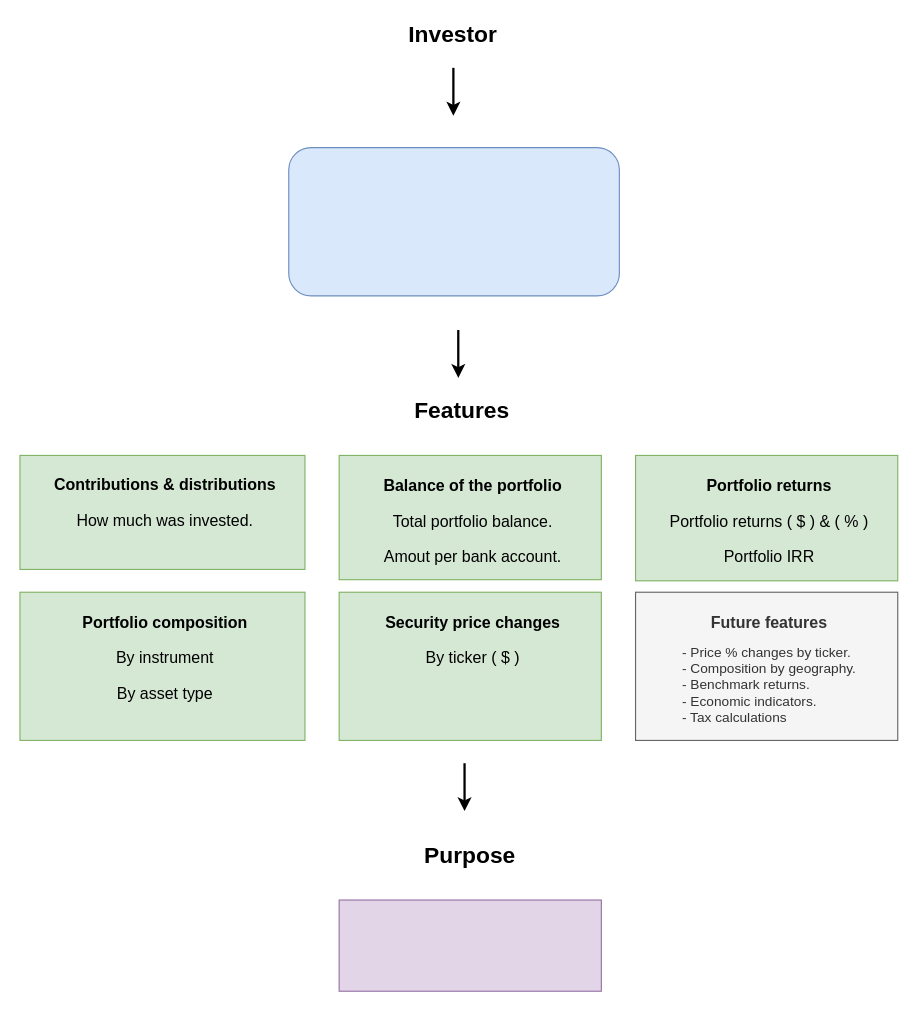
The diagram is 918 pixels wide and 1011 high, and some of its shapes have lost their labels. The shapes that lost their labels are listed below. From the top down, each one's box as (x1, y1, x2, y2) in pixels, then its label:
(288, 146, 619, 296): Portfolio Monitoring System Consolidate and analyze the investment portfolio.
(338, 899, 601, 991): Decisions on the Investment Portfolio
